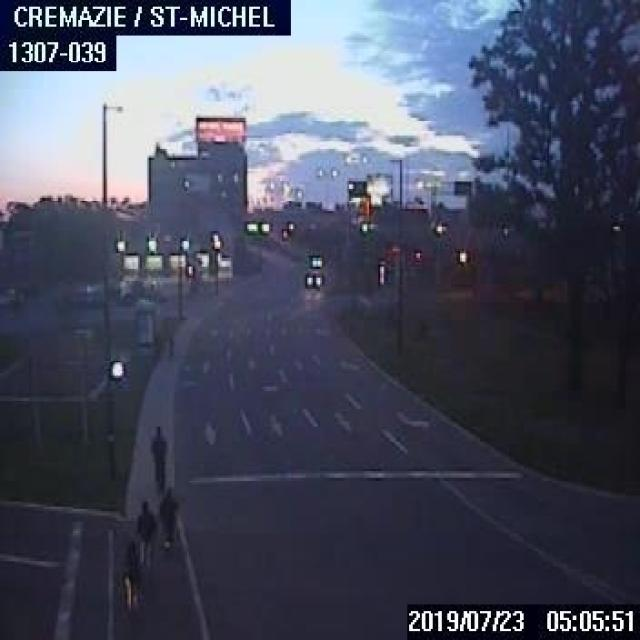pedestrian: (134, 495, 155, 569), (120, 539, 139, 612), (157, 484, 175, 551), (149, 424, 166, 489)
vehicle: (0, 286, 24, 306), (302, 269, 320, 287), (304, 252, 321, 266)
